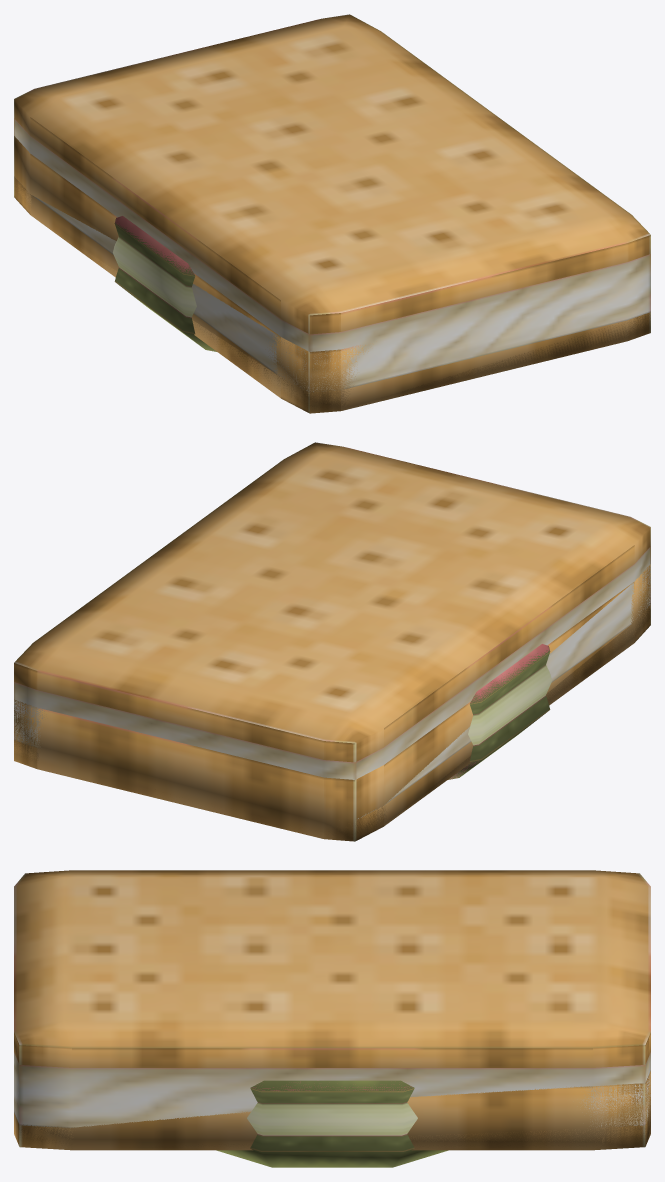
The model's file is SM_Platforms.fbx.
3 views of the same model, one above another, from view 1: azimuth 30°, elevation 25°; view 2: azimuth 150°, elevation 25°; view 3: azimuth 270°, elevation 25° (orthographic). The views are drawn at different scales.
Visible parts, largest first — view 1: Koekje.002, Koekje.001, Macaron1, Macaron2; view 2: Koekje.002, Koekje.001, Macaron1, Macaron2; view 3: Koekje.002, Koekje.001, Macaron1.
Part boxes in pixels (x1=…): Koekje.002: x1=14, y1=14, x2=650, y2=413; Koekje.001: x1=14, y1=136, x2=650, y2=413; Macaron1: x1=113, y1=218, x2=216, y2=351; Macaron2: x1=115, y1=216, x2=211, y2=350; Koekje.002: x1=14, y1=442, x2=650, y2=841; Koekje.001: x1=14, y1=564, x2=650, y2=841; Macaron1: x1=448, y1=646, x2=551, y2=779; Macaron2: x1=448, y1=644, x2=549, y2=779; Koekje.002: x1=14, y1=870, x2=650, y2=1150; Koekje.001: x1=14, y1=1070, x2=650, y2=1150; Macaron1: x1=216, y1=1080, x2=448, y2=1167.
Bounding box in the file's own units: 200 × 70 × 289.
